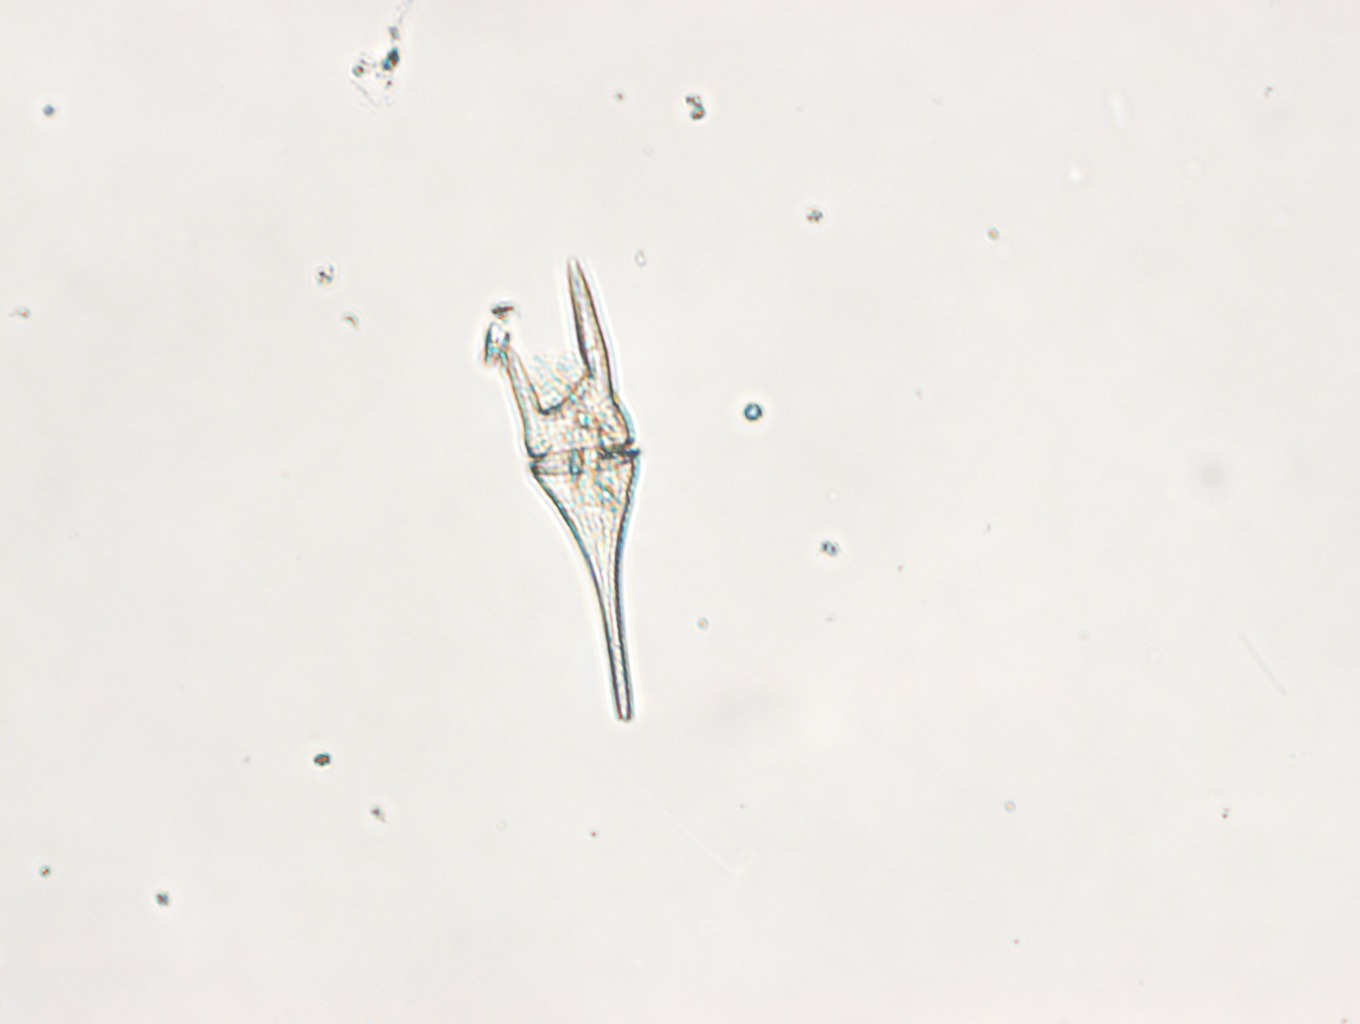ceratium furca: (496, 256, 640, 724)
